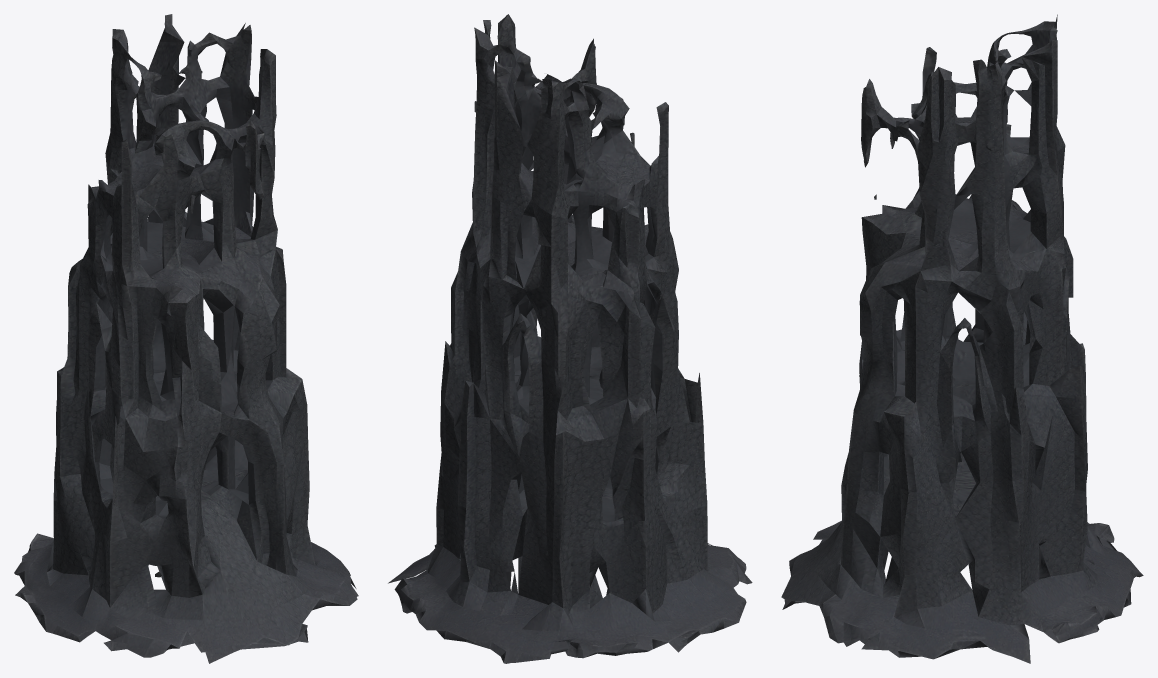
File: b3-spire.glb
3 views of the same model, side by side, from view 1: azimuth 30°, elevation 25°; view 2: azimuth 150°, elevation 25°; view 3: azimuth 270°, elevation 25° (orthographic). The views are drawn at different scales.
Size of the model in its own units: 1.06 by 1.87 by 1.08.
1 material, 1 textured.
